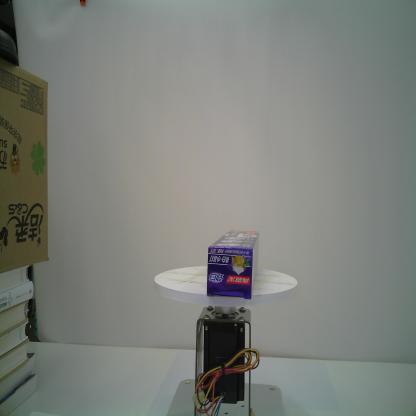Personal Hygiene: (206, 226, 261, 299)
